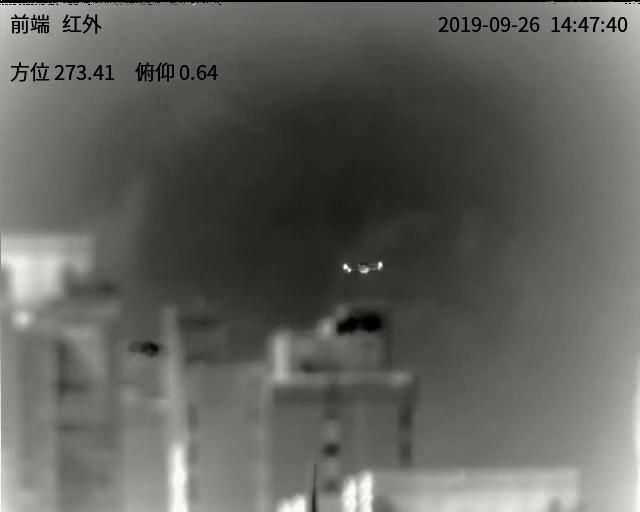DRONE: (340, 260, 384, 276)
